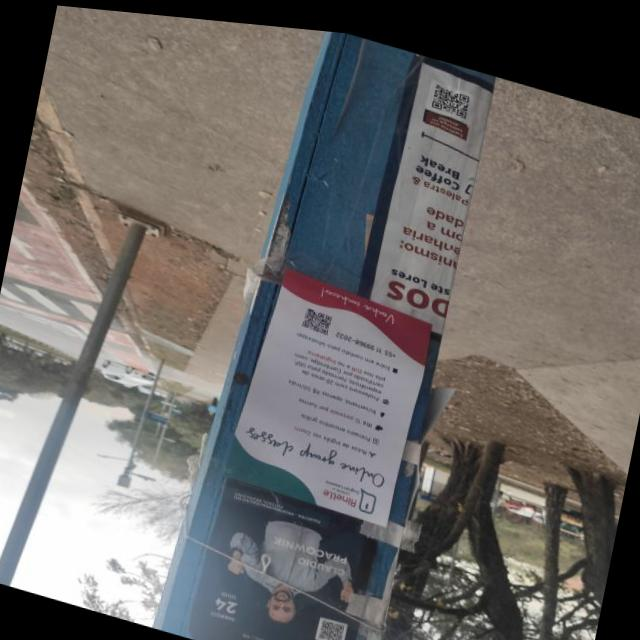qrcode: (432, 75, 471, 110), (302, 300, 333, 328), (319, 613, 344, 637)
